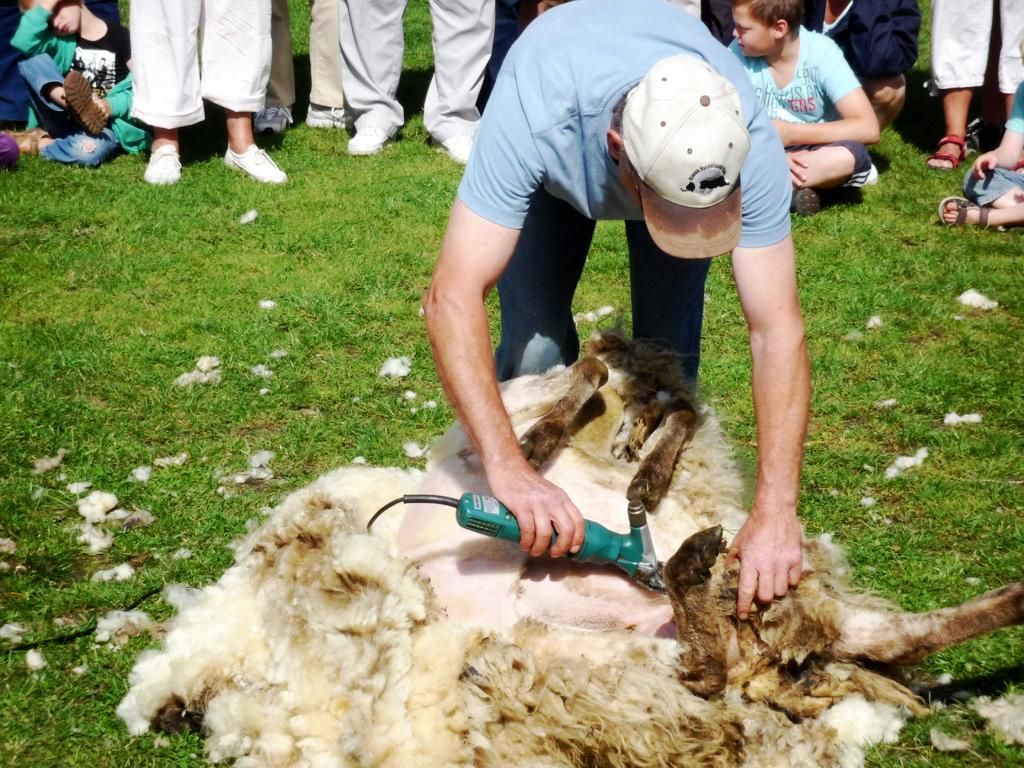Sheep: (100, 374, 970, 764)
